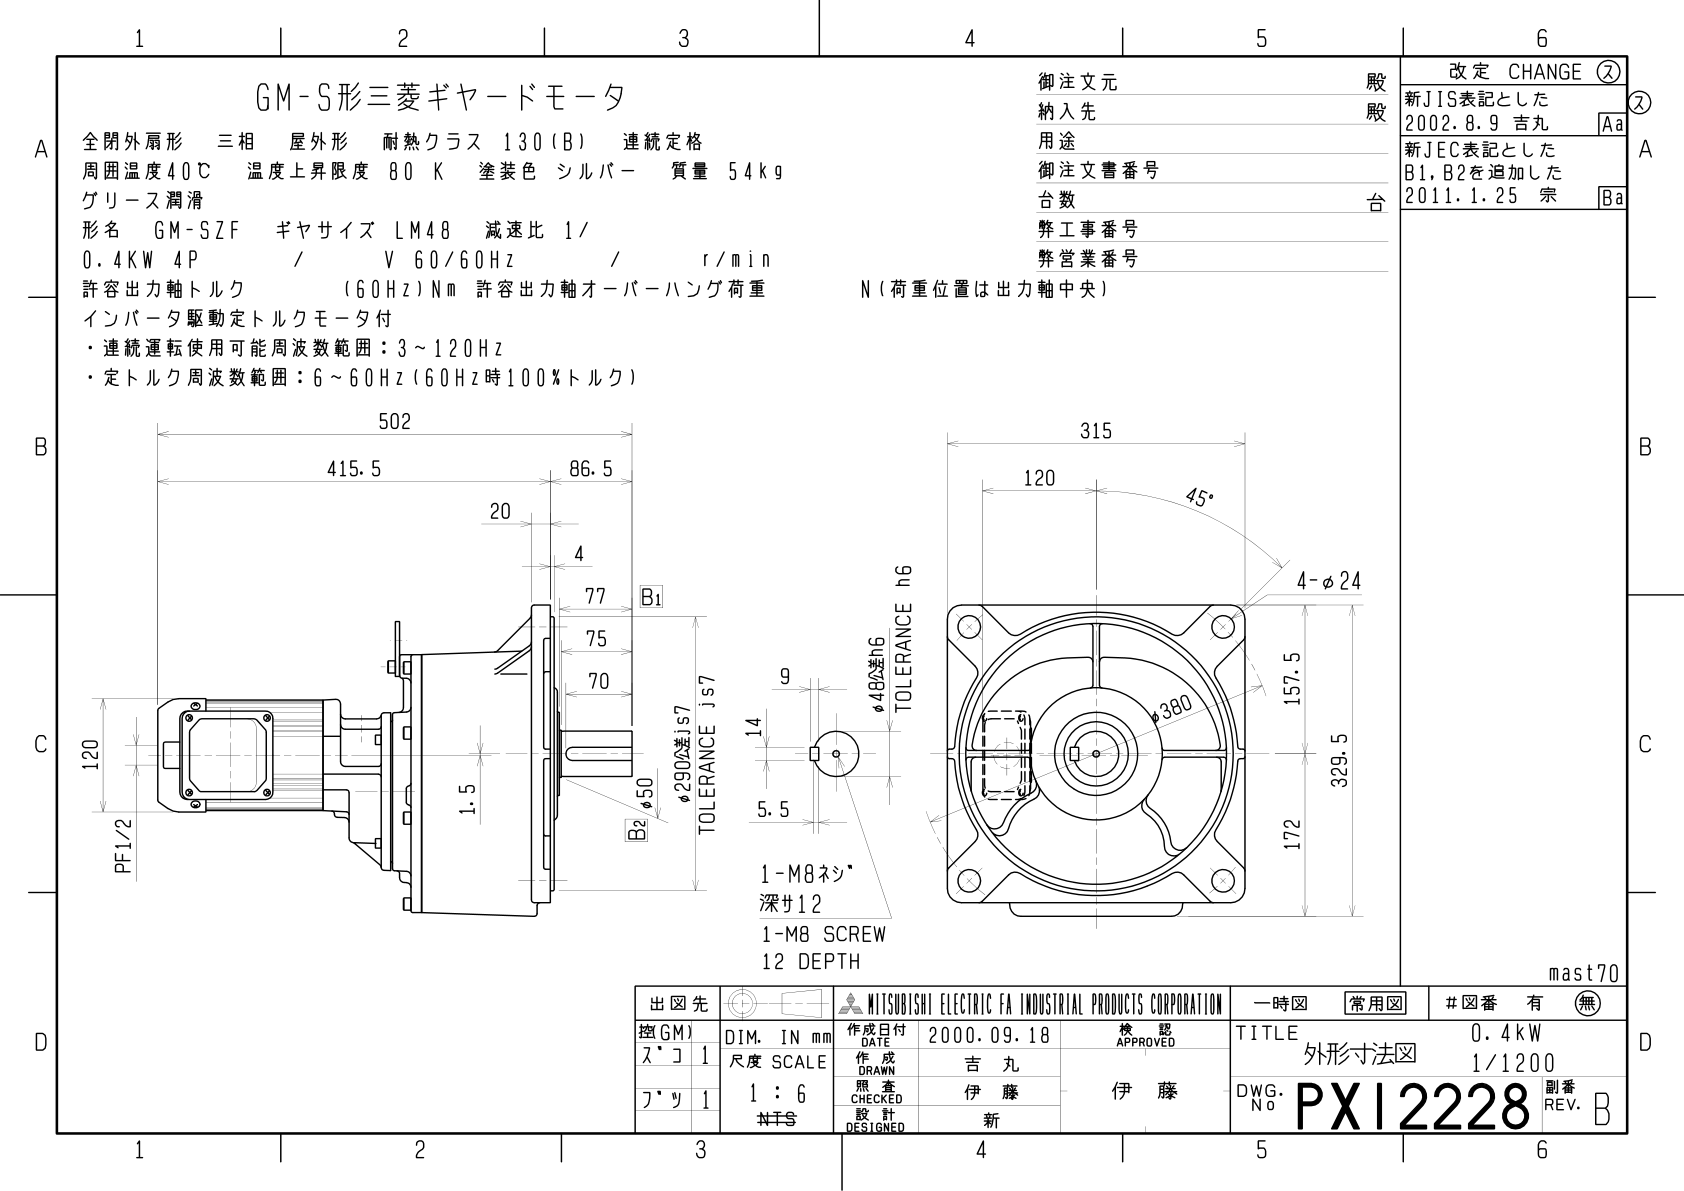GM_S_インバタ屋外＿三相_フランジ: (6, 6, 1684, 1178)
